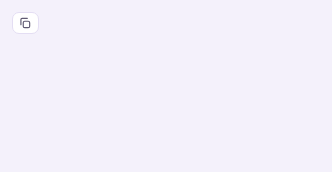
Test: still copies where the browser has no clipboard API (the app opened over plain http)
Step 1. Click the button named "Copy phone number" → x=25, y=23, box x1=12 y1=12 x2=38 y2=34
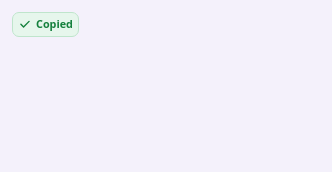
Expected: the button with aria-label "phone number copied" is shown, x1=12 y1=12 x2=79 y2=37
